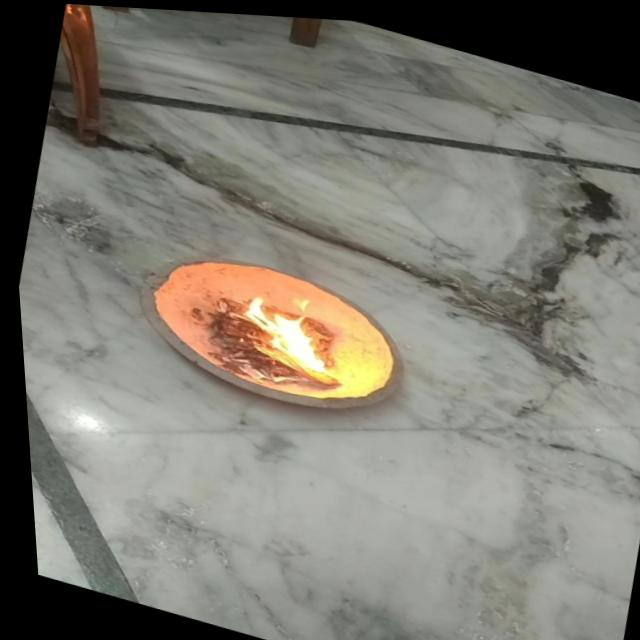fire: (225, 279, 349, 380)
